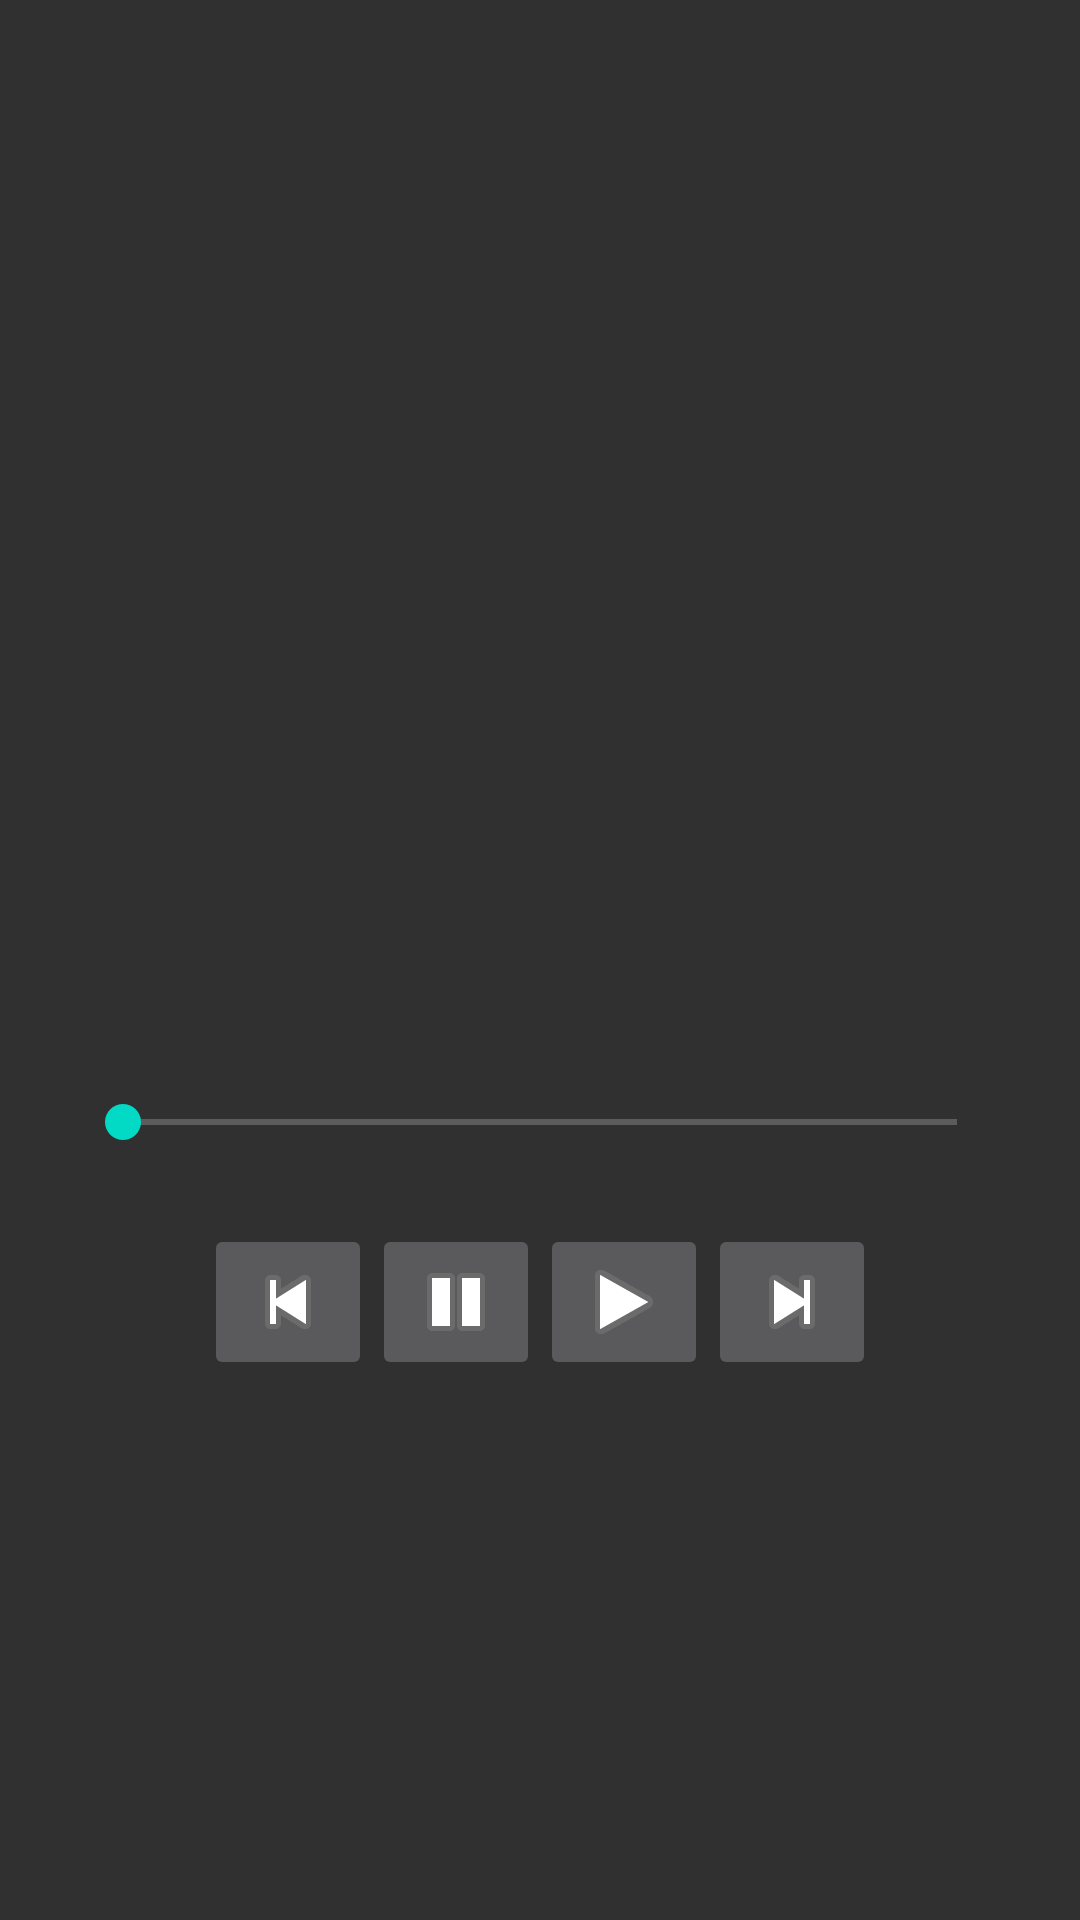

Icons on this 1080x1920 Android screen, each with the point to tap as point (x, y):
next: point (792, 1302)
pause: point (456, 1302)
play: point (624, 1302)
previous: point (288, 1302)
